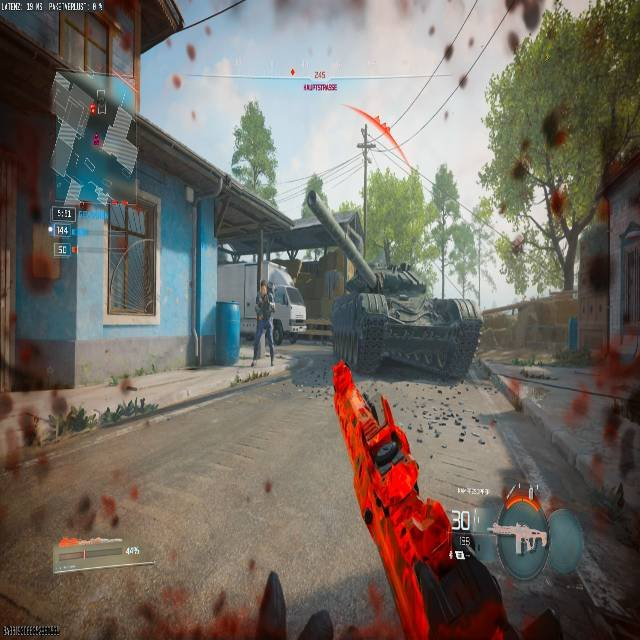head: (258, 280, 267, 291)
player: (251, 280, 278, 366)
